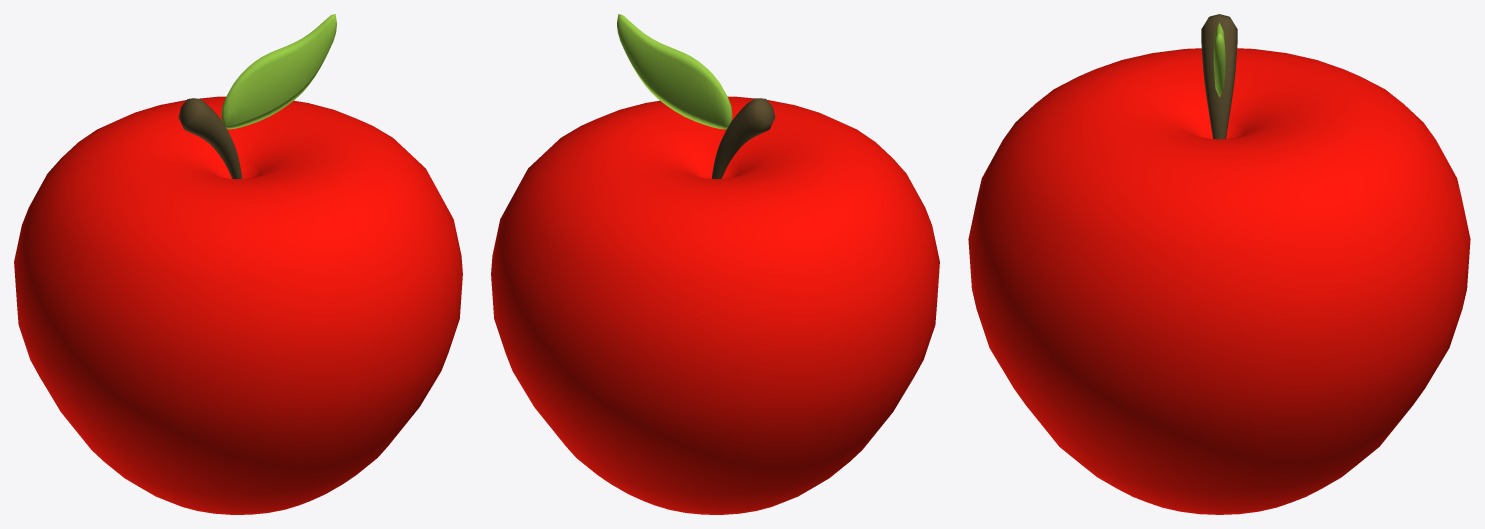
The model's file is apple.fbx.
3 renders of one model, left to right at view 1: azimuth 30°, elevation 25°; view 2: azimuth 150°, elevation 25°; view 3: azimuth 270°, elevation 25°, orthographic. The views are drawn at different scales.
Parts seen in each view (by area): view 1: apple, leaf, stem; view 2: apple, leaf, stem; view 3: apple, stem, leaf.
Part boxes in pixels (<box>): apple: <box>14,96,462,514</box>; leaf: <box>221,14,336,129</box>; stem: <box>178,98,242,178</box>; apple: <box>491,96,939,514</box>; leaf: <box>617,14,732,129</box>; stem: <box>711,98,775,178</box>; apple: <box>968,48,1470,514</box>; stem: <box>1201,14,1237,139</box>; leaf: <box>1213,22,1225,97</box>.
Bounding box in the file's own units: 212 × 231 × 212.
